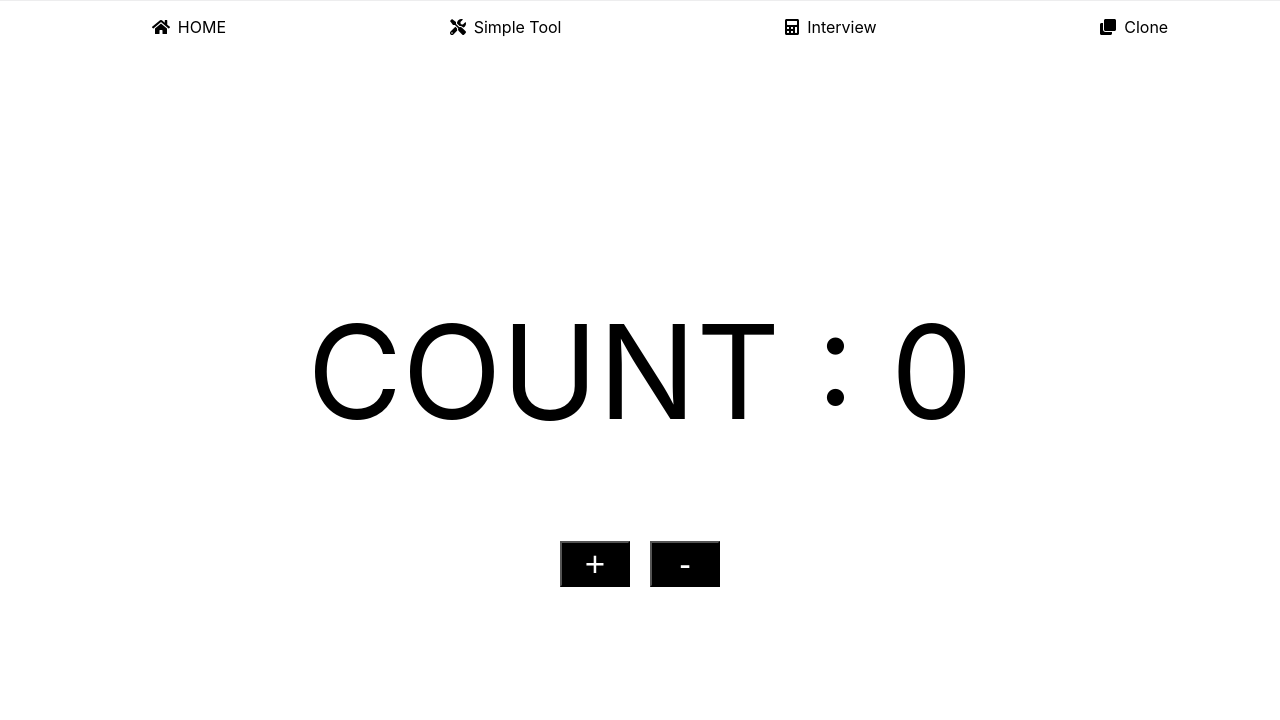
Scenario: Home Page › clicking on button increment 5 times counter display 5
The width and height of the screenshot is (1280, 720).
Click the button with test id "counter-increment" at (595, 564), box left=560, top=541, right=630, bottom=587
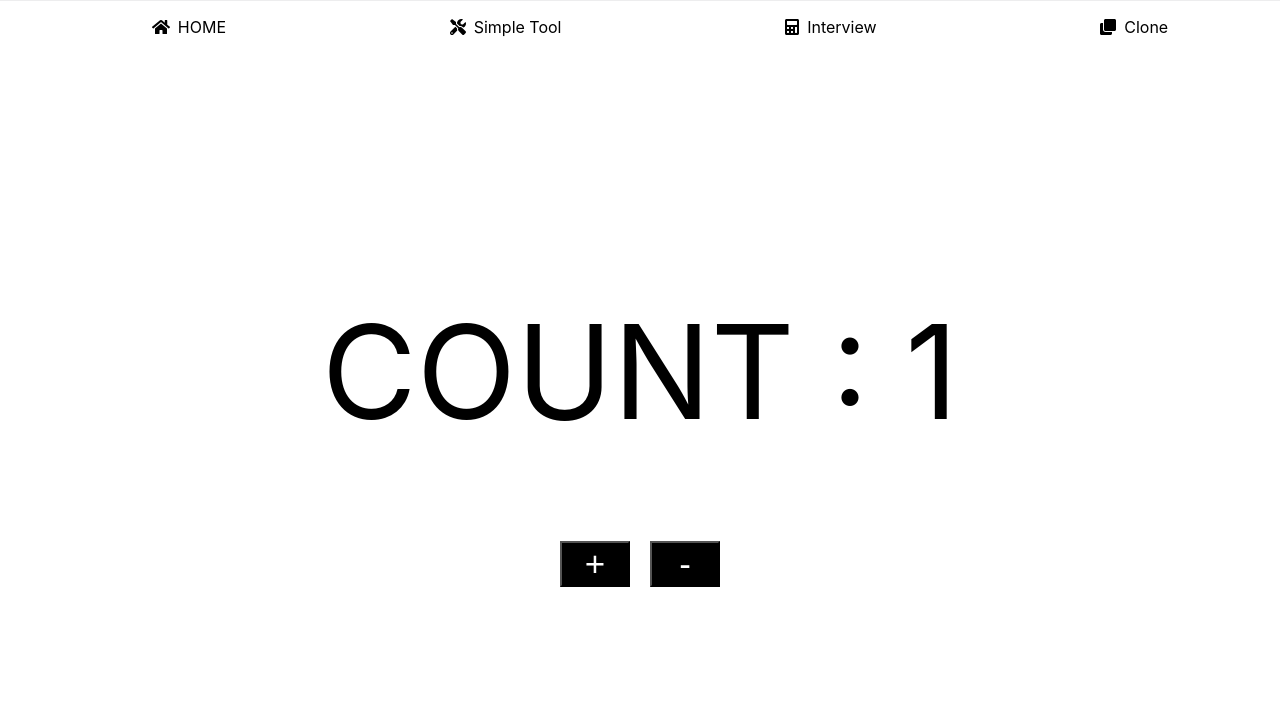
Click the button with test id "counter-increment" at (595, 564), box left=560, top=541, right=630, bottom=587
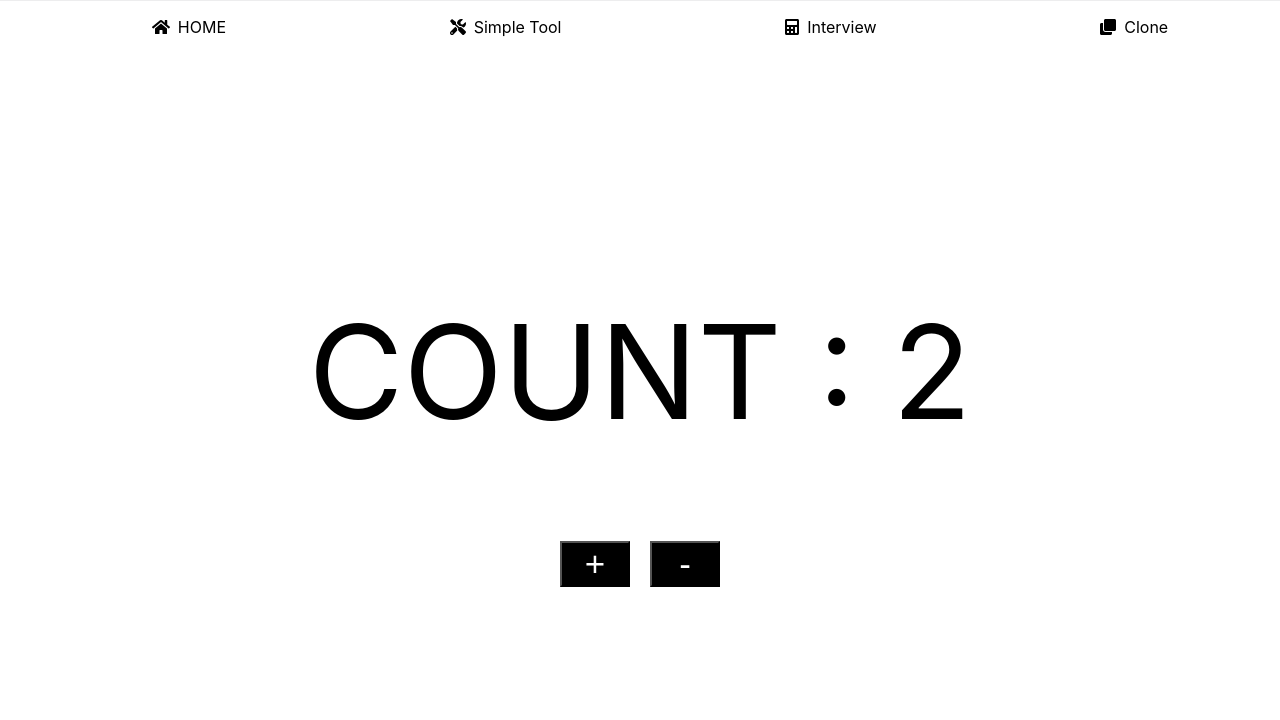
Click the button with test id "counter-increment" at (595, 564), box left=560, top=541, right=630, bottom=587
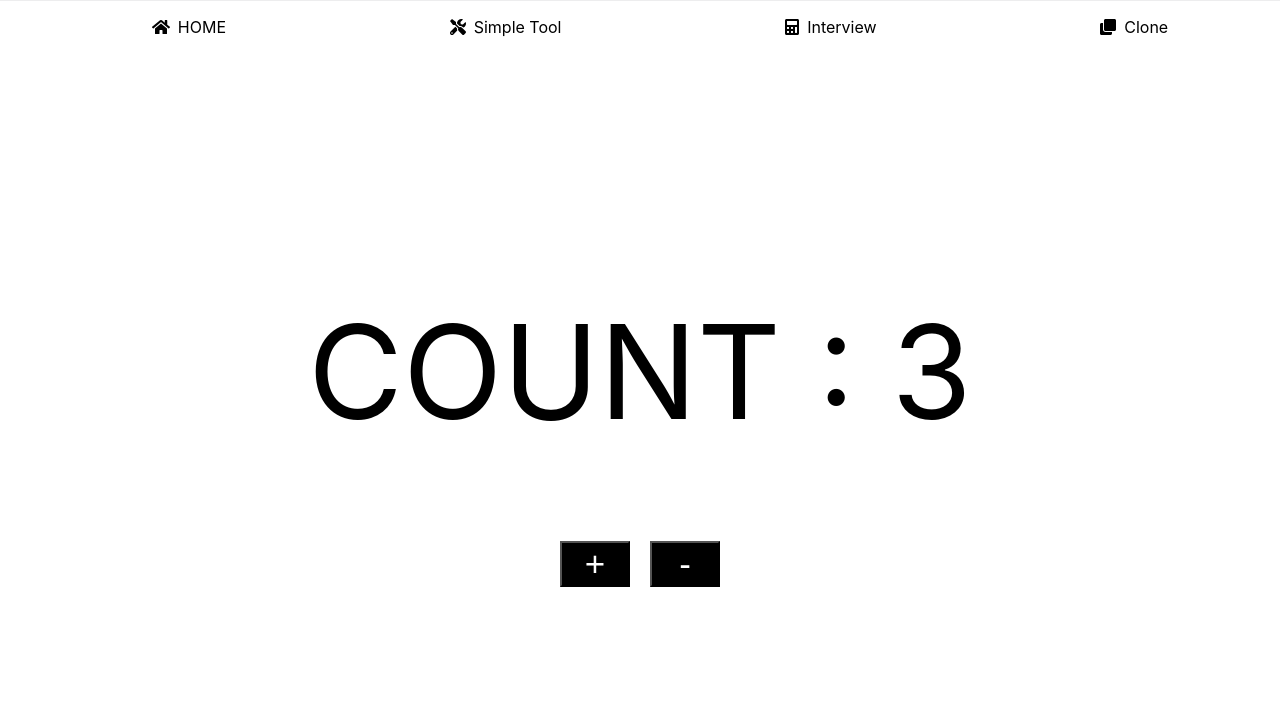
Click the button with test id "counter-increment" at (595, 564), box left=560, top=541, right=630, bottom=587
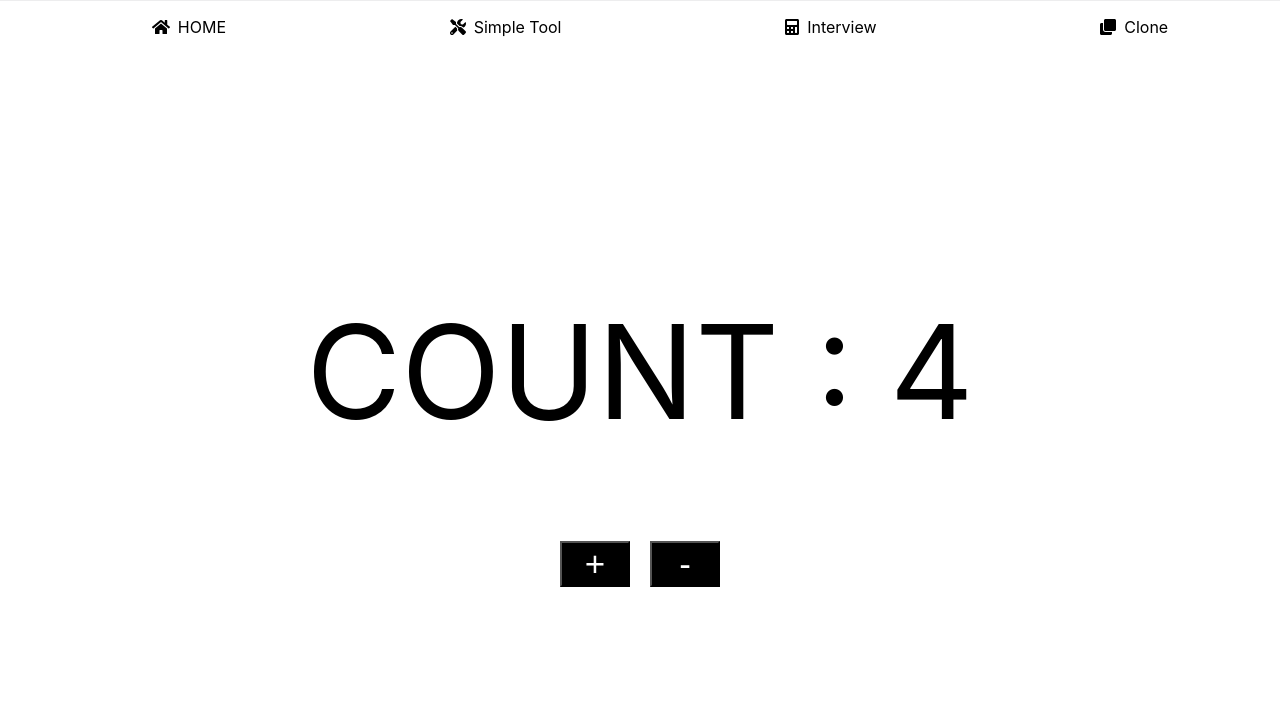
Click the button with test id "counter-increment" at (595, 564), box left=560, top=541, right=630, bottom=587
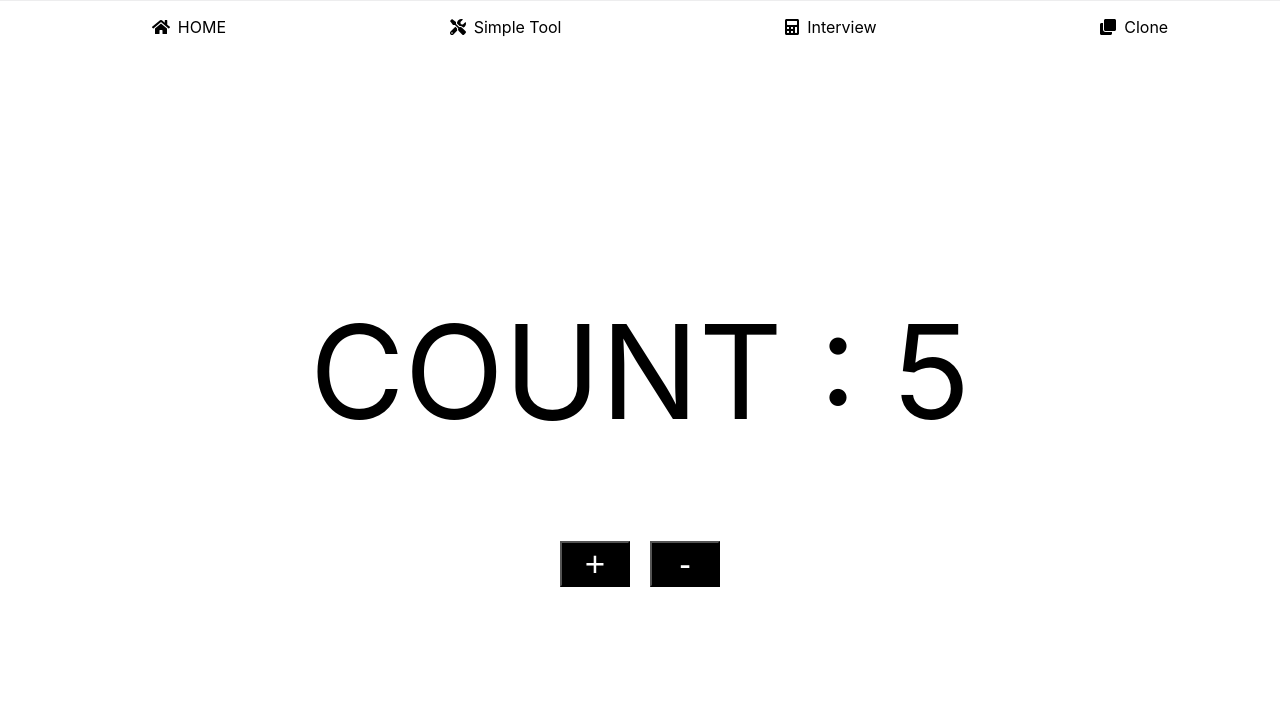
Expected: the text "5" is shown, left=893, top=293, right=970, bottom=450
